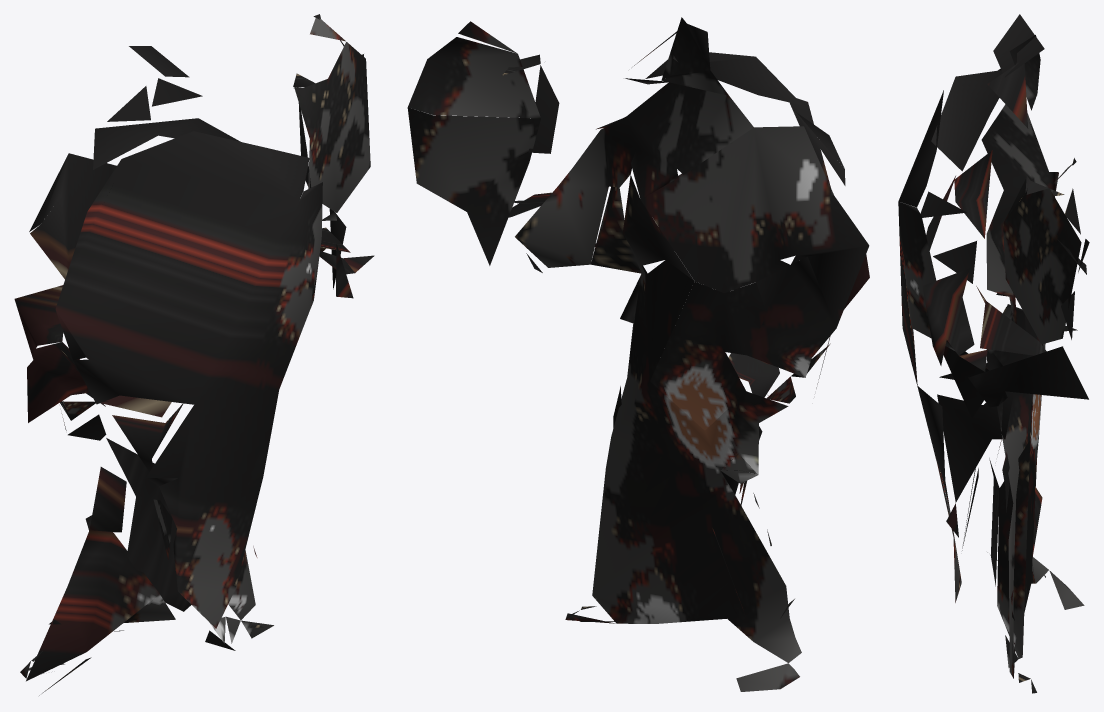
The picture shows the model from 3 angles, left to right: view 1: azimuth 30°, elevation 25°; view 2: azimuth 150°, elevation 25°; view 3: azimuth 270°, elevation 25°; orthographic projection. The views are drawn at different scales.
Visible parts, largest first — view 1: body.002; view 2: body.002; view 3: body.002.
Part boxes in pixels (left/top/right/bottom): body.002: left=14, top=14, right=374, bottom=695; body.002: left=407, top=17, right=869, bottom=691; body.002: left=898, top=14, right=1089, bottom=693.
Bounding box in the file's own units: 1.34 × 2.03 × 0.5595.
Materials: 1 (1 with a texture image).
